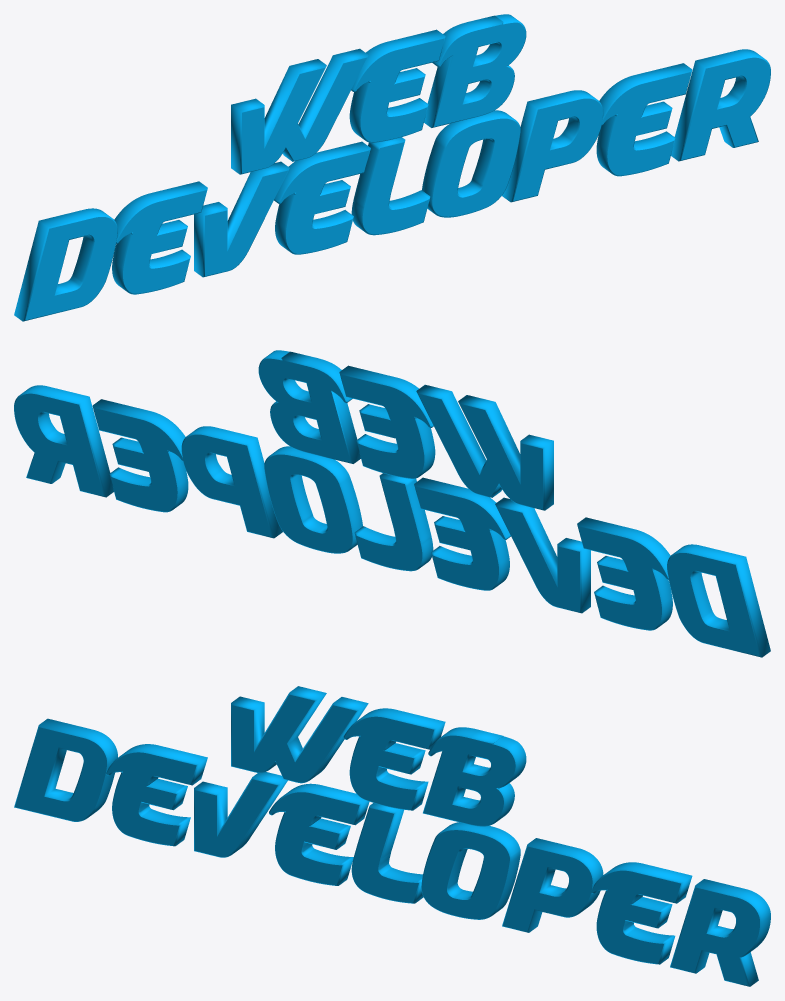
3 renders of one model, top to bottom at view 1: azimuth 30°, elevation 25°; view 2: azimuth 150°, elevation 25°; view 3: azimuth 330°, elevation 25°, orthographic.
Parts seen in each view (by area): view 1: Text; view 2: Text; view 3: Text.
Part boxes in pixels (<box>): Text: <box>14,14,770,321</box>; Text: <box>14,350,770,657</box>; Text: <box>14,686,770,986</box>.
Bounding box in the file's own units: 17.79 × 4.19 × 0.4257.
